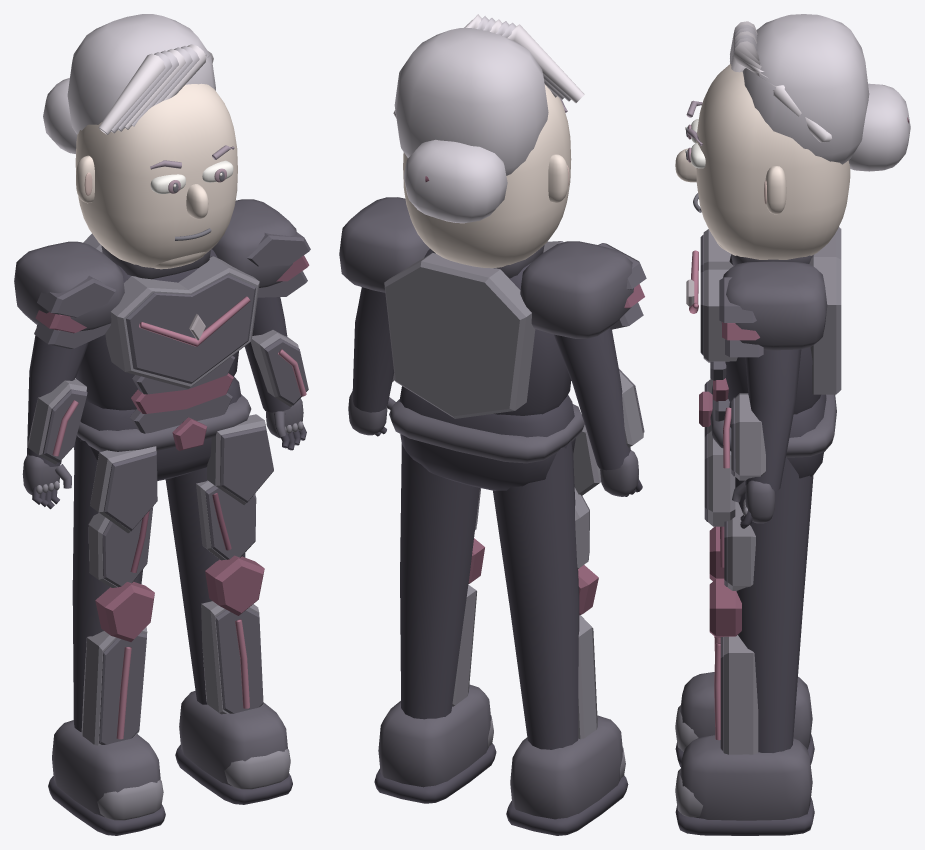
Rendered from lianna_erisconos.glb.
3 renders of one model, left to right at view 1: azimuth 30°, elevation 25°; view 2: azimuth 150°, elevation 25°; view 3: azimuth 270°, elevation 25°, orthographic. The views are drawn at different scales.
Parts seen in each view (by area): view 1: Face, Forged breastplate black face, Swept silver hair cap, Left armoured boot, Right armoured boot, Left pauldron shoulder shell, Right leg undersuit, Left leg undersuit, Forged breastplate forged rim, Right pauldron shoulder shell, Right forged shin plate black face, Left forged shin plate black face (+44 smaller); view 2: Armoured backplate forged rim, Left leg undersuit, Right leg undersuit, Swept silver hair cap, Face, Left pauldron shoulder shell, Left armoured boot, Right armoured boot, Armoured pelvis foundation, Low swept knot, Left arm undersuit, Right pauldron shoulder shell (+15 smaller); view 3: Face, Right leg undersuit, Swept silver hair cap, Right armoured boot, Right pauldron shoulder shell, Right arm undersuit, Right forged shin plate forged rim, Low swept knot, Armoured backplate forged rim, Left armoured boot, Forged breastplate forged rim, Right boot sole (+21 smaller).
Boxes of the visible parts, box(x1,y1,x2,y2) form: Face: box(75, 83, 237, 267); Forged breastplate black face: box(126, 274, 256, 383); Swept silver hair cap: box(67, 14, 215, 134); Left armoured boot: box(52, 720, 160, 816); Right armoured boot: box(179, 690, 287, 785); Left pauldron shoulder shell: box(14, 241, 124, 331); Right leg undersuit: box(165, 467, 245, 704); Left leg undersuit: box(72, 435, 142, 731); Forged breastplate forged rim: box(105, 256, 259, 388); Right pauldron shoulder shell: box(212, 199, 296, 287); Right forged shin plate black face: box(215, 608, 263, 713); Left forged shin plate black face: box(99, 633, 146, 744); Armoured backplate forged rim: box(384, 253, 535, 418); Left leg undersuit: box(493, 441, 579, 749); Right leg undersuit: box(400, 444, 479, 719); Swept silver hair cap: box(394, 28, 548, 175); Face: box(403, 84, 571, 268); Left pauldron shoulder shell: box(520, 241, 633, 338); Left armoured boot: box(510, 715, 622, 819); Right armoured boot: box(378, 684, 491, 787); Armoured pelvis foundation: box(399, 386, 575, 490); Low swept knot: box(404, 139, 507, 223); Left arm undersuit: box(554, 328, 630, 470); Right pauldron shoulder shell: box(339, 197, 429, 292); Face: box(696, 64, 850, 259); Right leg undersuit: box(735, 458, 813, 752); Swept silver hair cap: box(742, 14, 869, 164); Right armoured boot: box(680, 735, 812, 820); Right pauldron shoulder shell: box(721, 261, 827, 350); Right arm undersuit: box(745, 349, 801, 491); Right forged shin plate forged rim: box(723, 635, 758, 754); Low swept knot: box(848, 83, 910, 171); Armoured backplate forged rim: box(809, 227, 841, 394); Left armoured boot: box(680, 672, 812, 749); Forged breastplate forged rim: box(703, 229, 737, 362); Right boot sole: box(675, 797, 814, 835).
Size of the model in its own units: 0.774 by 2.02 by 0.562.
